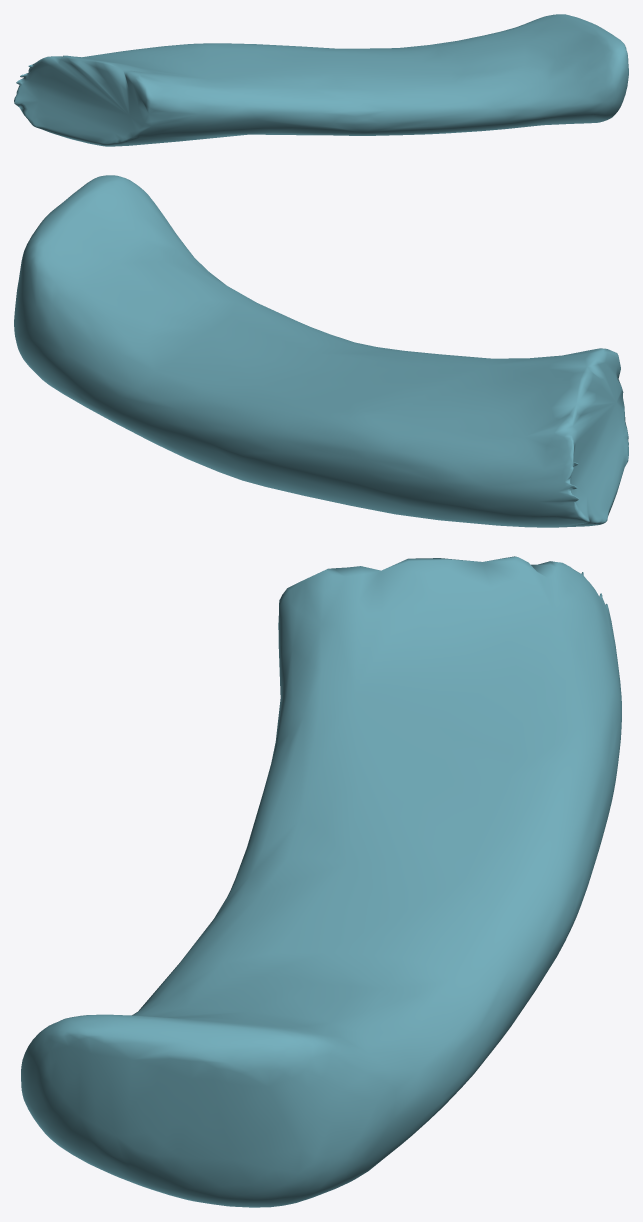
3 renders of one model, top to bottom at view 1: azimuth 30°, elevation 25°; view 2: azimuth 150°, elevation 25°; view 3: azimuth 270°, elevation 25°, orthographic. The views are drawn at different scales.
Visible parts, largest first — view 1: 右侧第四肋软骨; view 2: 右侧第四肋软骨; view 3: 右侧第四肋软骨.
Part boxes in pixels (<box>): 右侧第四肋软骨: <box>14,14,628,146</box>; 右侧第四肋软骨: <box>14,175,628,527</box>; 右侧第四肋软骨: <box>21,556,621,1207</box>.
Bounding box in the file's own units: 0.0802 × 0.0185 × 0.0427.
